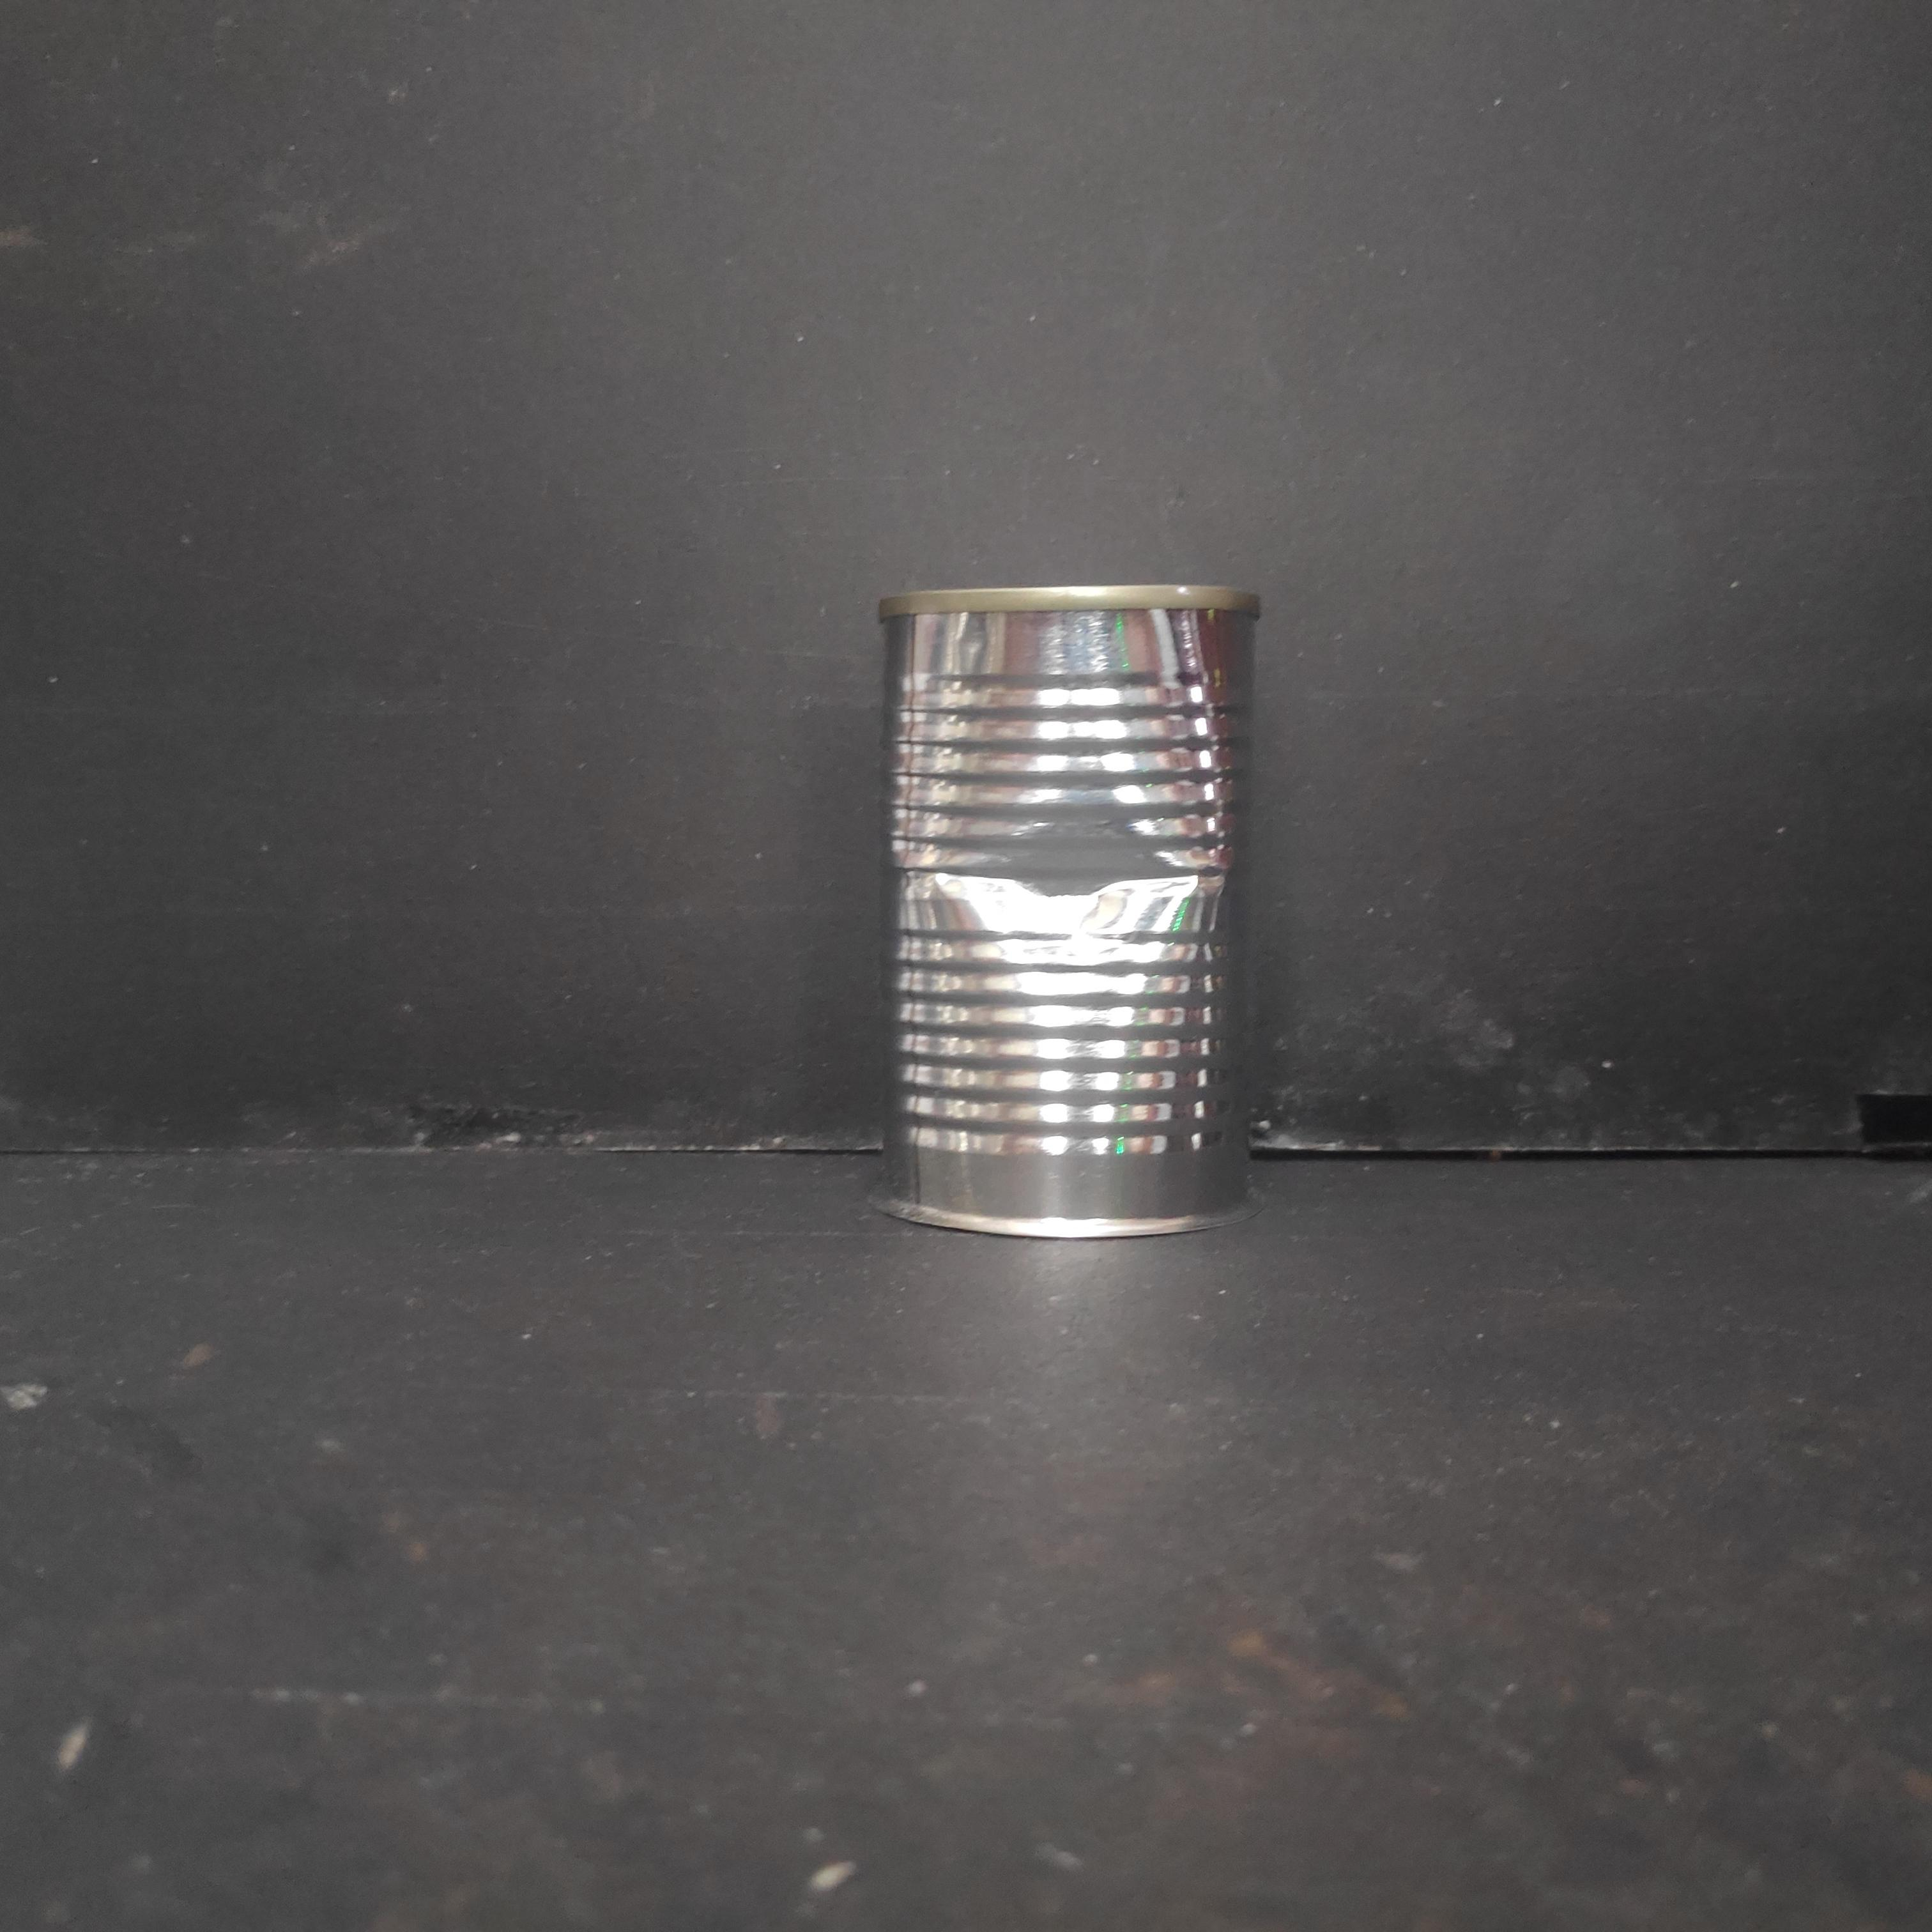Minor Defect: (867, 573, 1269, 1251)
